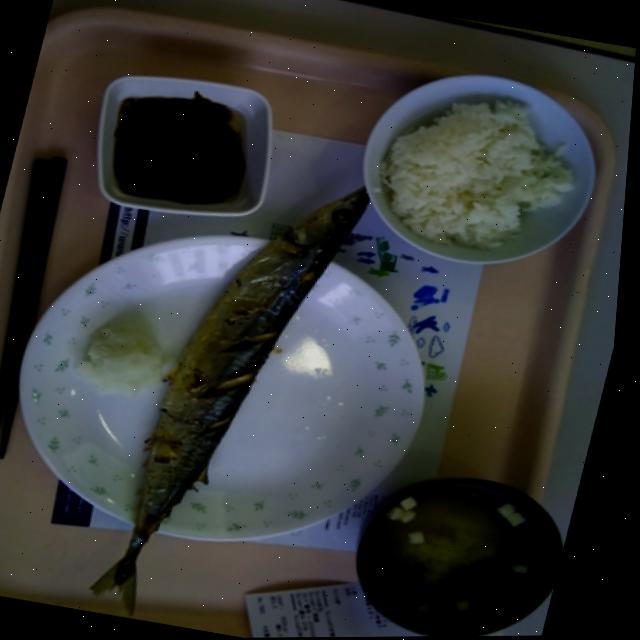汤锅炖物: (574, 43, 637, 214)
熟制海鲜: (153, 86, 635, 495)
米饭主食: (36, 0, 343, 231)
